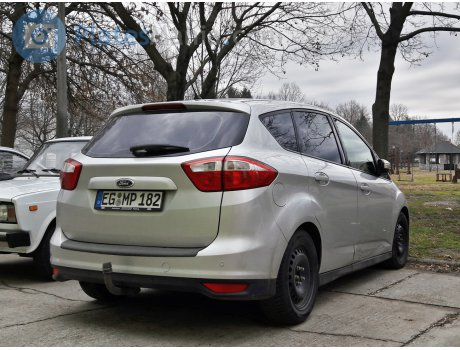License Plates: (103, 191, 157, 207)
